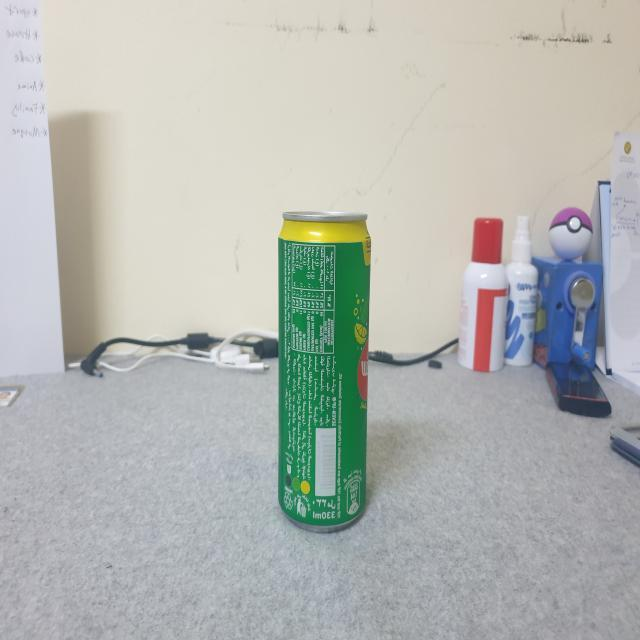can: (257, 197, 382, 548)
